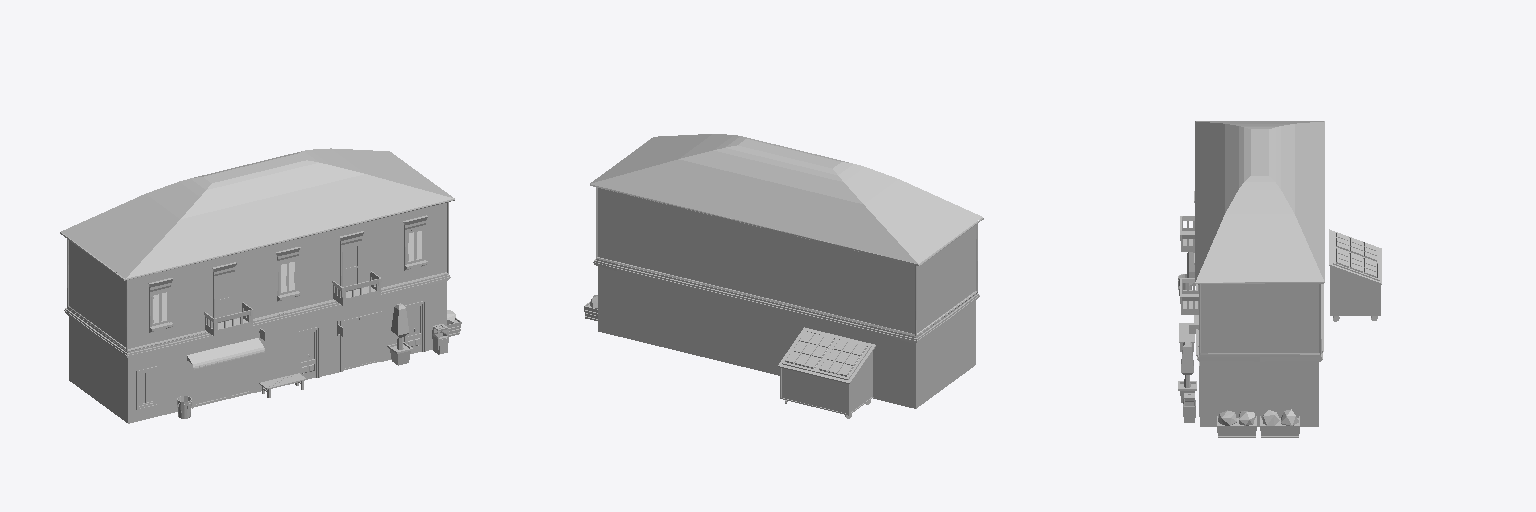
The model's file is building3.obj.
The picture shows the model from 3 angles: view 1: azimuth 30°, elevation 25°; view 2: azimuth 150°, elevation 25°; view 3: azimuth 270°, elevation 25°; orthographic projection.
Visible parts, largest first — view 1: HH.004, Tetto.009, Tubes.004, Tenda.006, Balcone.004, Balcone2.004, Persiane.014, Persiane.013, Persiane.012, Tree.035; view 2: HH.004, Tetto.009, Dumpster.004, Tubes.004; view 3: Tetto.009, HH.004, Dumpster.004, Vasi_e_Cespugli.003, Vasi_e_Cespugli.004, Tubes.004, Balcone2.004.
Part boxes in pixels (x1,y1,x2,y2): HH.004: (64,203,450,423); Tetto.009: (61,148,453,278); Tubes.004: (60,187,454,351); Tenda.006: (187,338,264,369); Balcone.004: (204,302,253,336); Balcone2.004: (332,271,381,305); Persiane.014: (406,228,423,264); Persiane.013: (279,259,296,295); Persiane.012: (152,290,168,325); Tree.035: (391,303,408,349); HH.004: (593,188,979,408); Tetto.009: (590,134,982,263); Dumpster.004: (778,327,875,418); Tubes.004: (590,138,983,336); Tetto.009: (1195,121,1324,281); HH.004: (1194,191,1323,426); Dumpster.004: (1329,229,1381,321); Vasi_e_Cespugli.003: (1217,416,1299,437); Vasi_e_Cespugli.004: (1218,409,1298,425); Tubes.004: (1195,282,1324,354); Balcone2.004: (1180,278,1198,314).
Size of the model in its own units: 4.86 by 2.61 by 2.48.